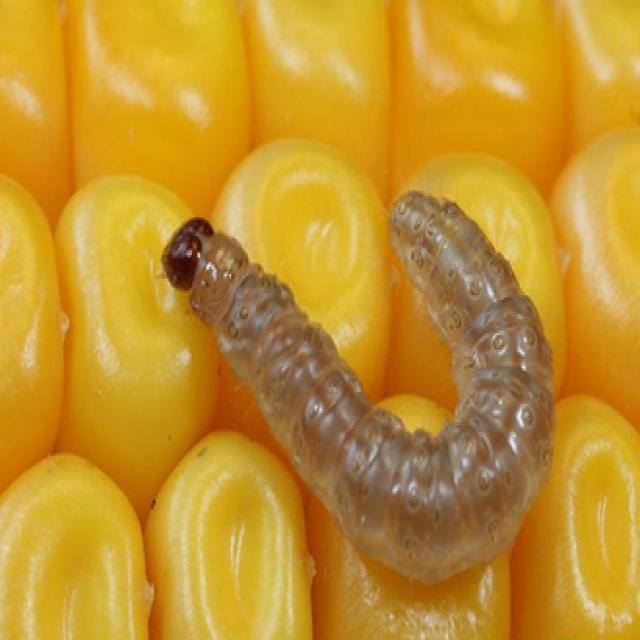cornborer-Larva-: (159, 177, 576, 596)
